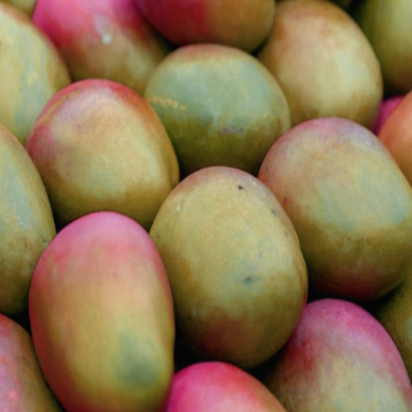mango: (134, 161, 319, 363), (15, 207, 192, 411), (256, 100, 412, 318), (136, 21, 299, 174)
